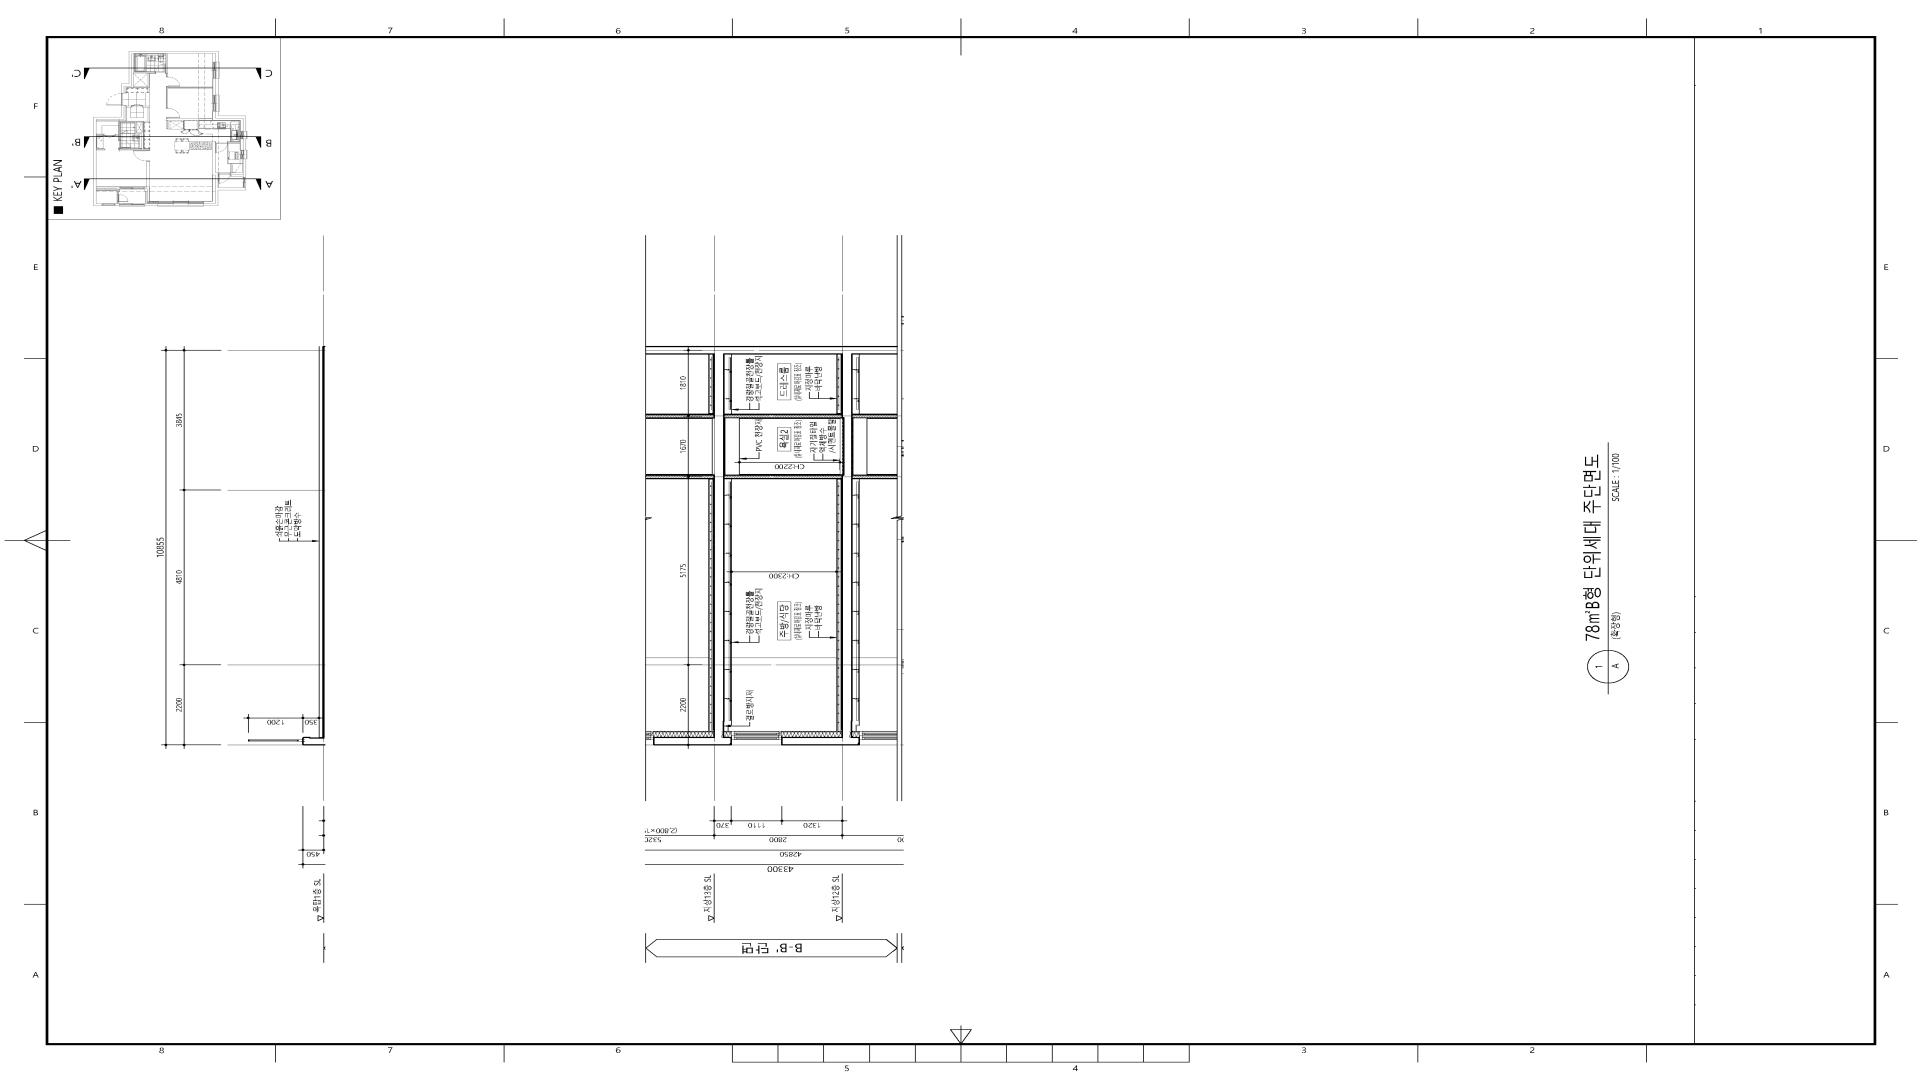wall: (645, 346, 897, 746), (724, 474, 841, 479), (725, 414, 842, 418)
window: (732, 731, 781, 745)
